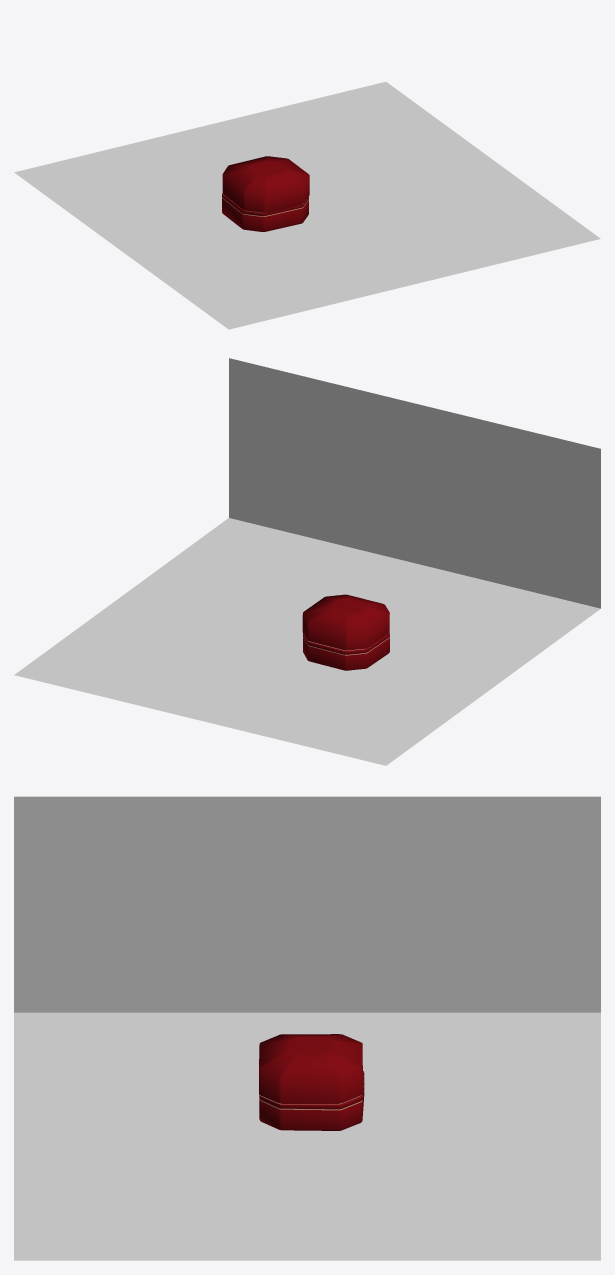
The model's file is boxring2.glb.
The picture shows the model from 3 angles, top to bottom: view 1: azimuth 30°, elevation 25°; view 2: azimuth 150°, elevation 25°; view 3: azimuth 270°, elevation 25°; orthographic projection. The views are drawn at different scales.
Parts seen in each view (by area): view 1: Plane, Cylinder.002, Cylinder; view 2: Plane, Cylinder.002, Cylinder; view 3: Plane, Cylinder.002, Cylinder.
Part boxes in pixels (<box>): Plane: <box>14,81,600,329</box>; Cylinder.002: <box>222,156,309,213</box>; Cylinder: <box>222,193,308,231</box>; Plane: <box>14,358,600,765</box>; Cylinder.002: <box>302,594,389,650</box>; Cylinder: <box>303,633,389,670</box>; Plane: <box>14,796,600,1260</box>; Cylinder.002: <box>259,1034,362,1104</box>; Cylinder: <box>259,1071,364,1130</box>.
Size of the model in its own units: 364 by 150 by 364.
